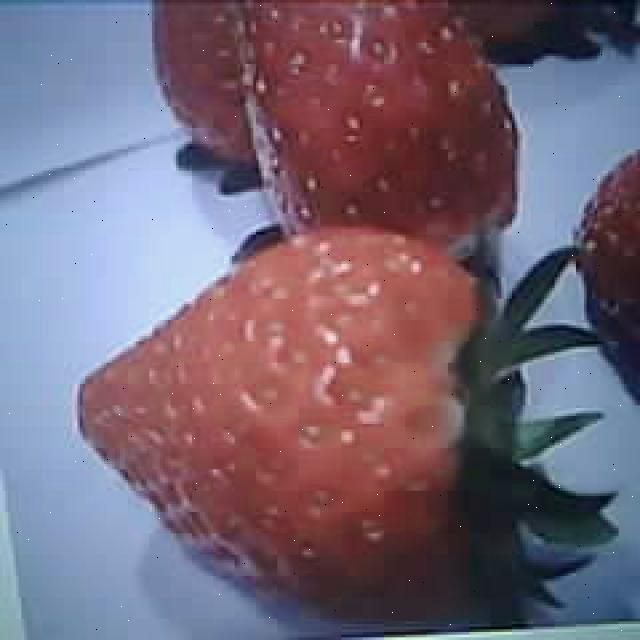ripe: (78, 232, 502, 614)
